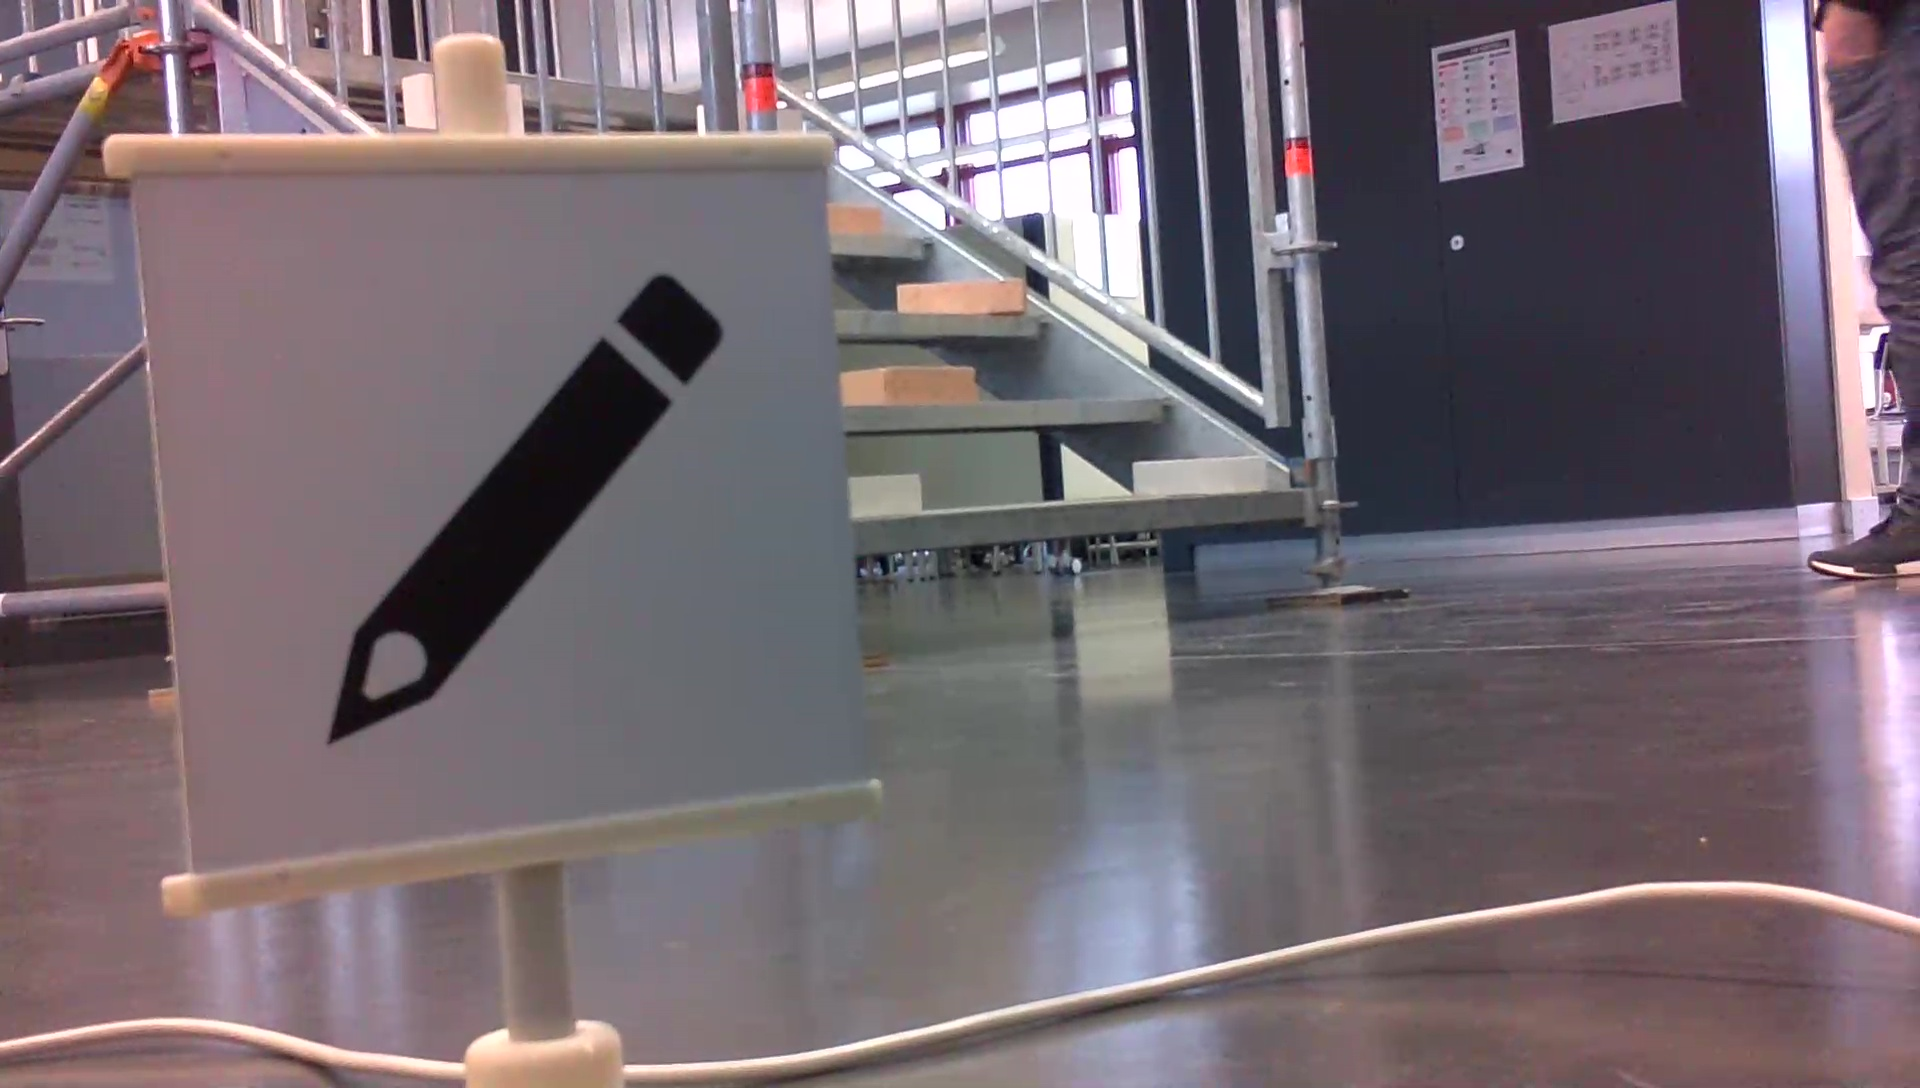brick: (837, 367, 975, 402), (1133, 458, 1265, 493), (898, 278, 1022, 313), (851, 472, 919, 513), (828, 206, 880, 233)
edge: (857, 493, 1303, 555), (843, 393, 1180, 433), (837, 307, 1054, 338), (832, 231, 938, 255)
pencil: (302, 255, 733, 758)
